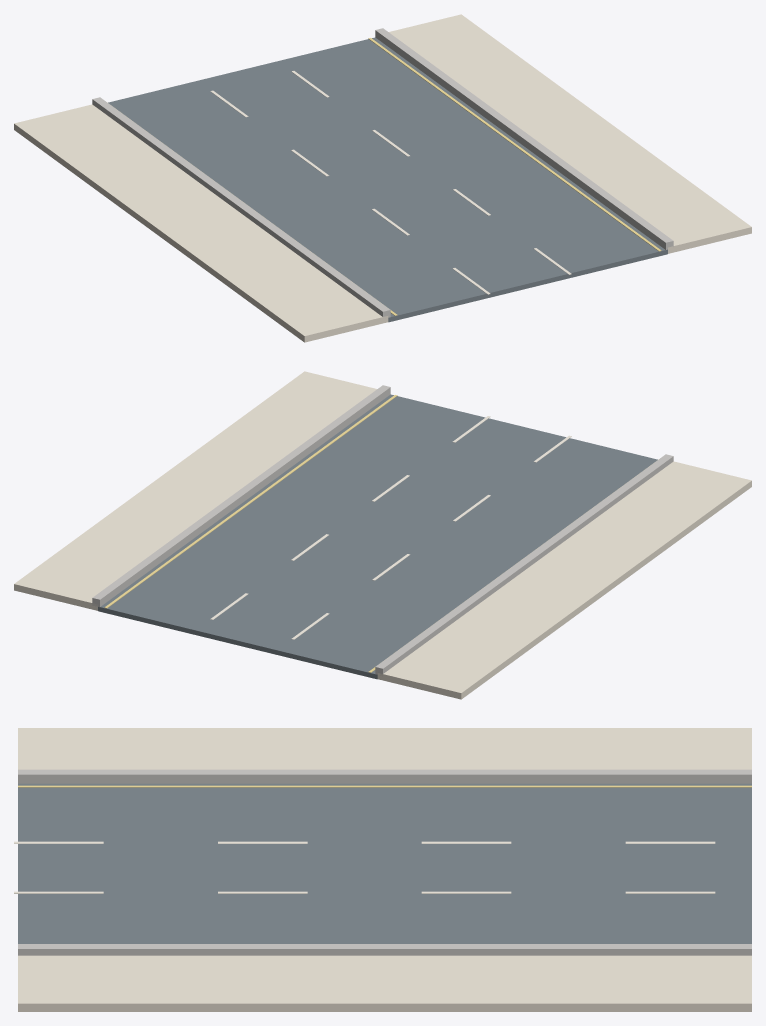
File: road-segment.glb
3 views of the same model, one above another, from view 1: azimuth 30°, elevation 25°; view 2: azimuth 150°, elevation 25°; view 3: azimuth 270°, elevation 25° (orthographic). The views are drawn at different scales.
Visible parts, largest first — view 1: Asphalt, Sidewalk (×2), Curb (×2), Edge; view 2: Asphalt, Sidewalk (×2), Curb (×2), Edge; view 3: Asphalt, Sidewalk (×2), Curb (×2), Edge.
Part boxes in pixels (x1,y1,x2,y2): Asphalt: (108,37,667,322); Sidewalk (×2): (14,14,751,342); Curb (×2): (92,28,673,317); Edge: (368,38,661,251); Asphalt: (98,394,657,679); Sidewalk (×2): (14,371,751,699); Curb (×2): (92,385,673,676); Edge: (104,395,397,608); Asphalt: (18,783,751,943); Sidewalk (×2): (18,728,751,1011); Curb (×2): (18,769,751,955); Edge: (18,785,751,787).
Bounding box in the file's own units: 16 × 0.41 × 18.1.
